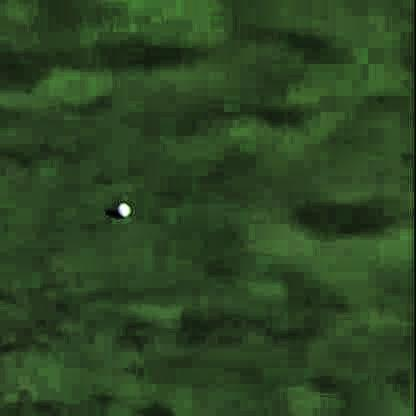golfball: (112, 200, 130, 216)
